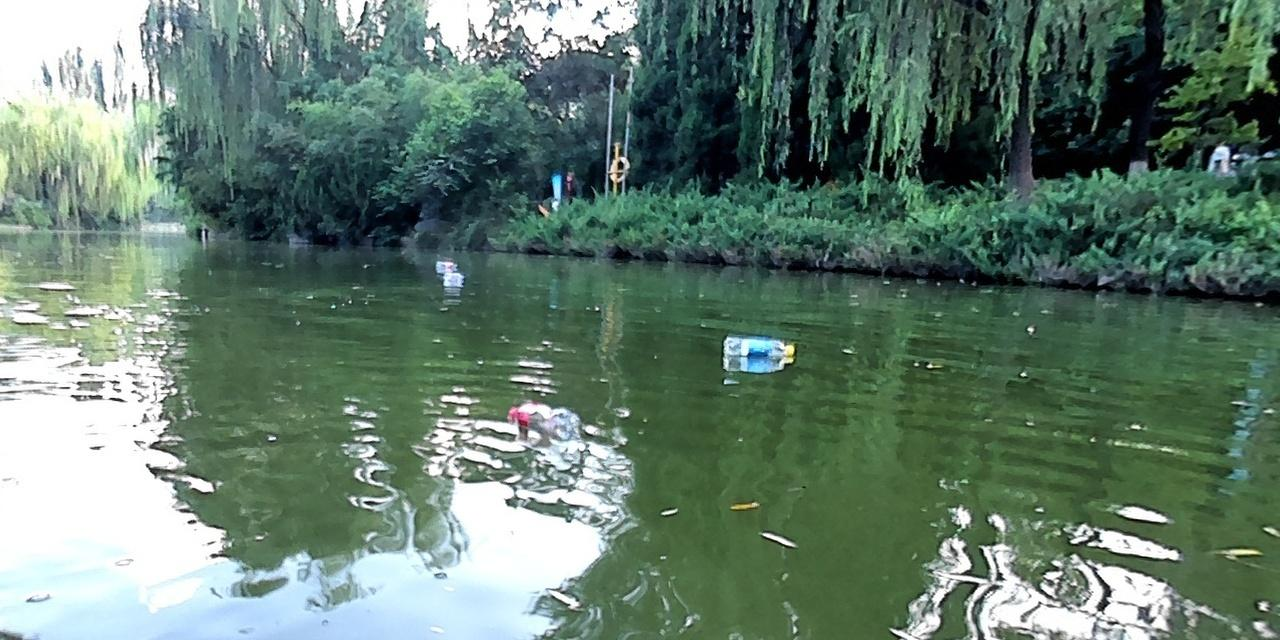bottle: (506, 402, 575, 437), (722, 335, 794, 358), (441, 272, 465, 285), (435, 260, 455, 269)
